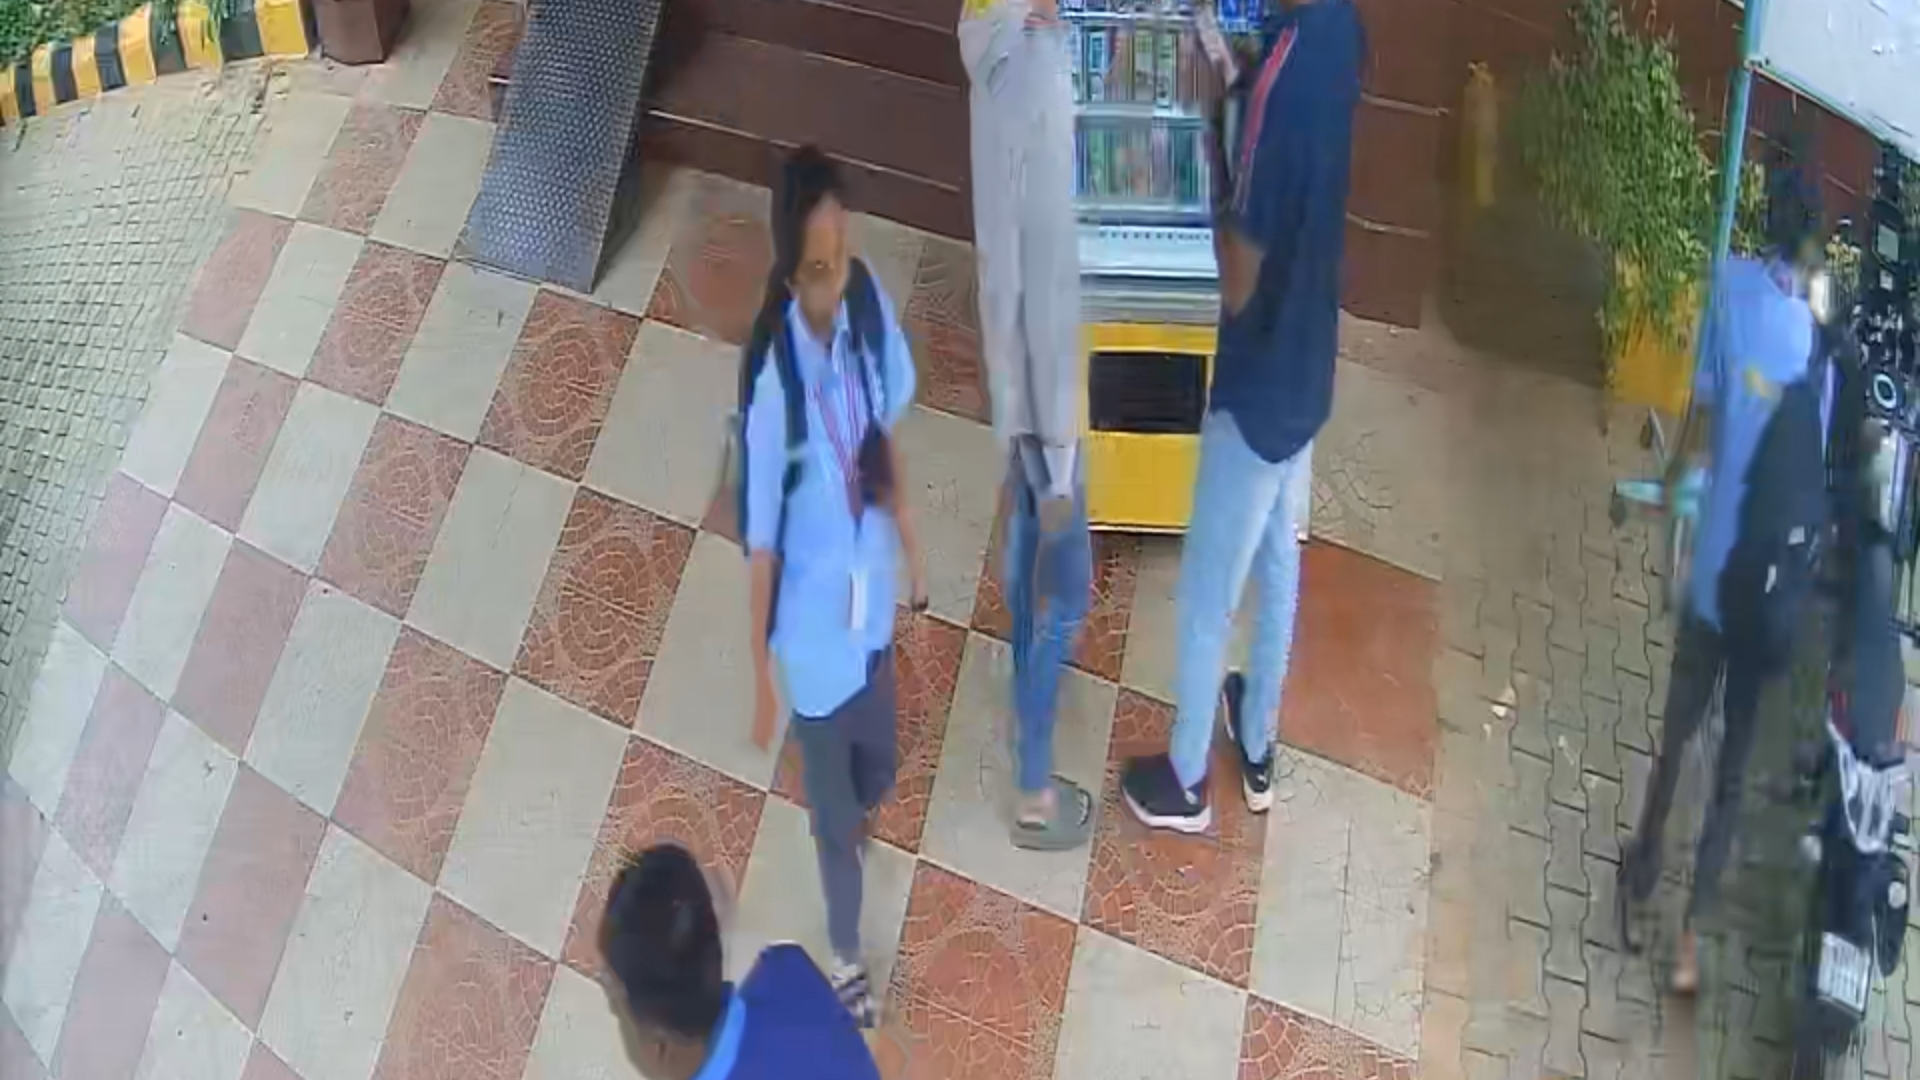not intruder: (729, 131, 940, 963)
